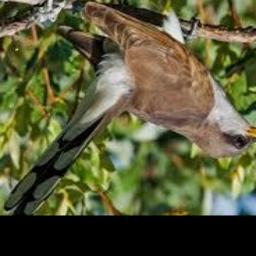Cuckoo: (4, 3, 256, 215)
